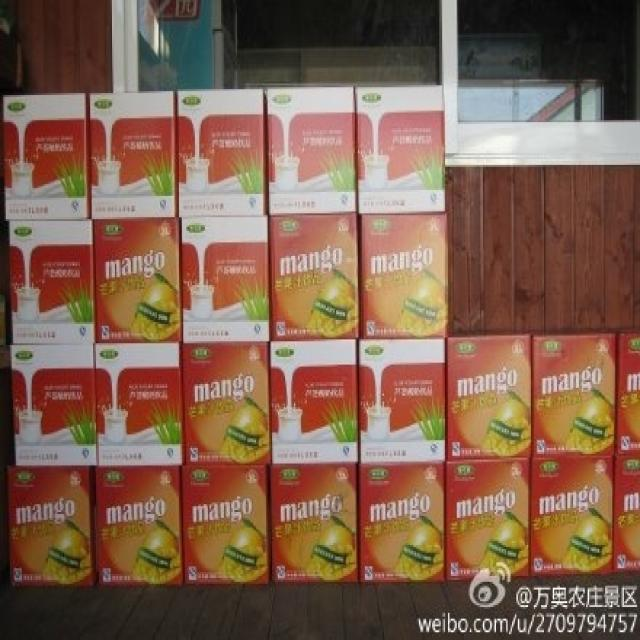box: (177, 89, 268, 217), (356, 85, 445, 213), (268, 85, 356, 213), (271, 213, 359, 341), (3, 93, 89, 221), (90, 91, 176, 219), (7, 217, 93, 345), (93, 219, 179, 347), (182, 215, 268, 343), (361, 211, 447, 339), (359, 337, 445, 465), (183, 341, 269, 469), (532, 332, 618, 460), (447, 336, 532, 464), (269, 464, 359, 584), (271, 341, 358, 465), (96, 345, 182, 469), (10, 345, 97, 467), (529, 458, 614, 580), (182, 467, 269, 586), (445, 462, 531, 582), (95, 469, 183, 586), (358, 464, 445, 582), (9, 469, 95, 586), (614, 454, 640, 576), (617, 330, 640, 456)
